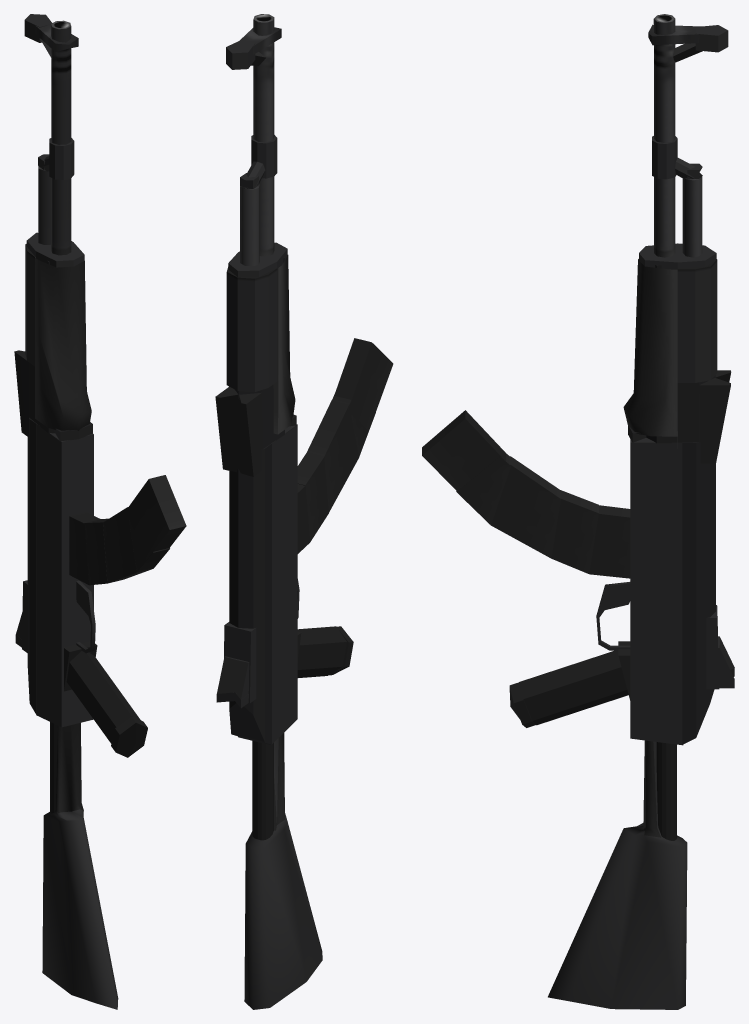
3 views of the same model, side by side, from view 1: azimuth 30°, elevation 25°; view 2: azimuth 150°, elevation 25°; view 3: azimuth 270°, elevation 25° (orthographic). The views are drawn at different scales.
Parts seen in each view (by area): view 1: node_01ad04d0_9ae3_4723_a41a_f70a8fdbbab7_mesh0; view 2: node_01ad04d0_9ae3_4723_a41a_f70a8fdbbab7_mesh0; view 3: node_01ad04d0_9ae3_4723_a41a_f70a8fdbbab7_mesh0.
Part boxes in pixels (box(x1,y1,x2,y2)): node_01ad04d0_9ae3_4723_a41a_f70a8fdbbab7_mesh0: box(14, 14, 186, 1009); node_01ad04d0_9ae3_4723_a41a_f70a8fdbbab7_mesh0: box(215, 14, 393, 1009); node_01ad04d0_9ae3_4723_a41a_f70a8fdbbab7_mesh0: box(422, 14, 734, 1009).
Bounding box in the file's own units: 0.0245 × 0.5551 × 0.1594.
